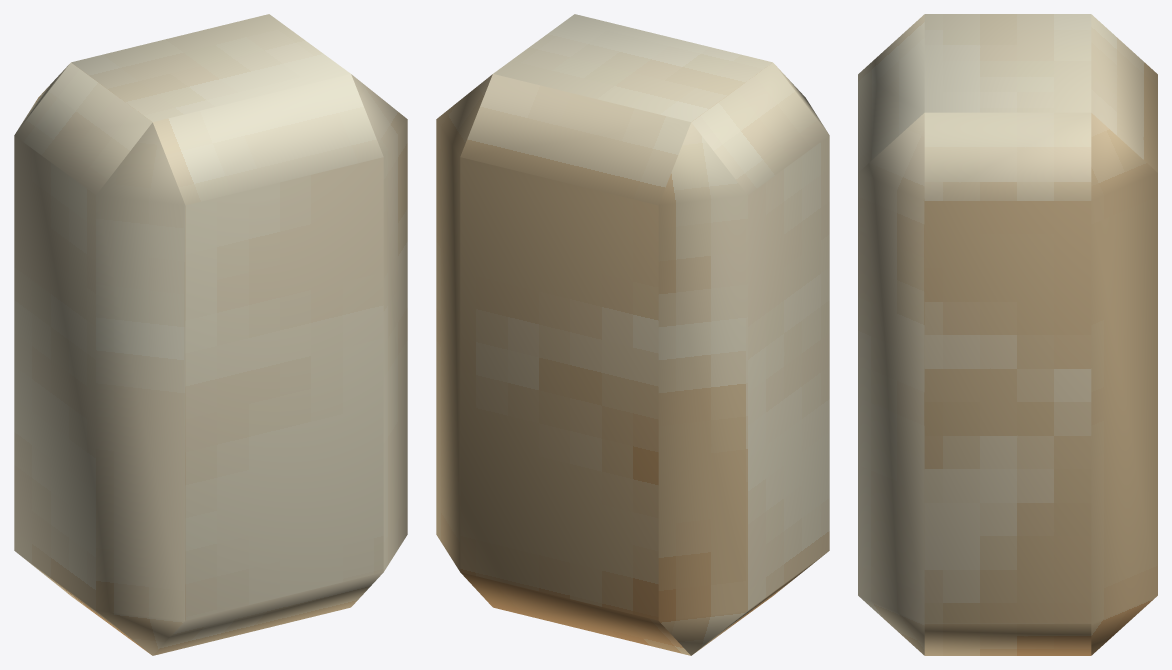
File: gk_toggle.glb
The picture shows the model from 3 angles, left to right: view 1: azimuth 30°, elevation 25°; view 2: azimuth 150°, elevation 25°; view 3: azimuth 270°, elevation 25°; orthographic projection.
Visible parts, largest first — view 1: mesh; view 2: mesh; view 3: mesh.
Part boxes in pixels (x1,y1,x2,y2): mesh: [14, 14, 407, 655]; mesh: [436, 14, 829, 655]; mesh: [858, 14, 1157, 655].
Size of the model in its own units: 0.022 by 0.036 by 0.018.
1 material, 1 textured.
